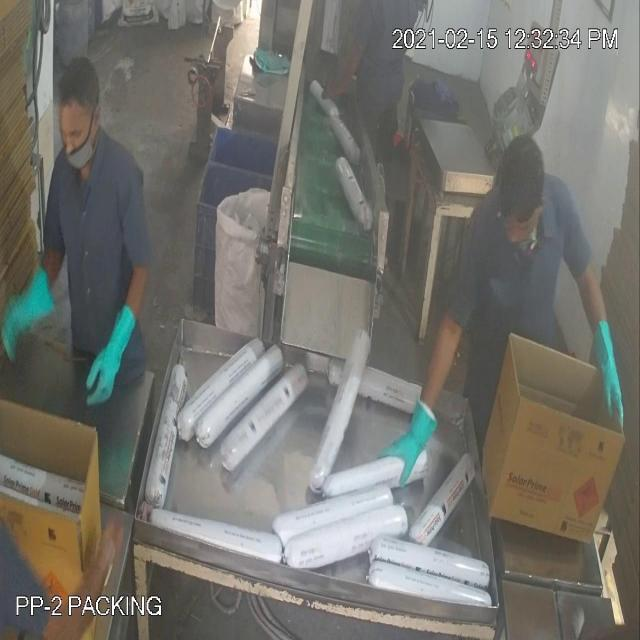gloves: (372, 387, 442, 504), (0, 255, 64, 381), (80, 303, 144, 418), (585, 295, 631, 441)
no-gloves: (311, 32, 370, 111)
